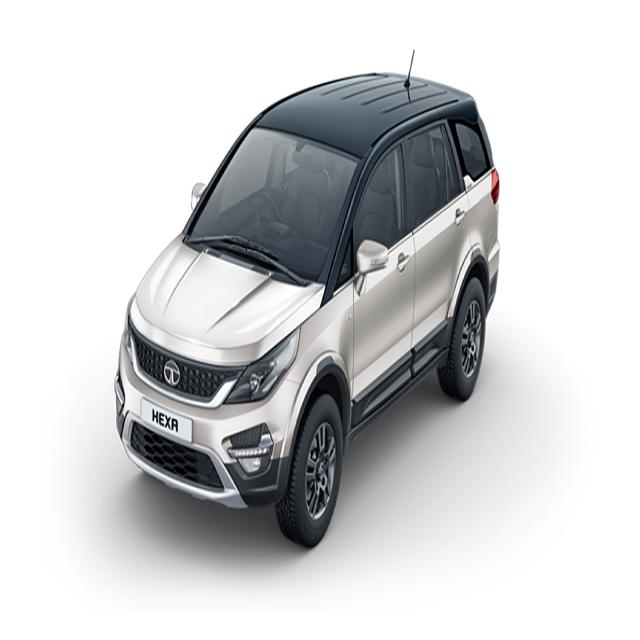car: (111, 75, 500, 476)
